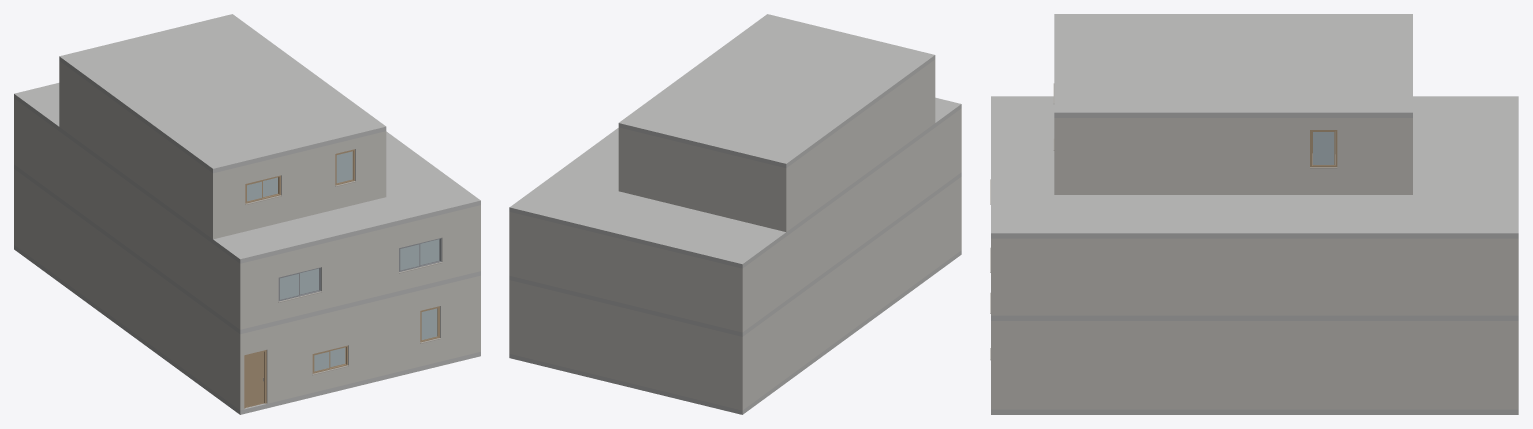
The model's file is site.glb.
3 renders of one model, left to right at view 1: azimuth 30°, elevation 25°; view 2: azimuth 150°, elevation 25°; view 3: azimuth 270°, elevation 25°, orthographic. The views are drawn at different scales.
Visible parts, largest first — view 1: level3/slab, level2/slab, floor2/wall2, floor1/wall5, floor2/wall0, floor1/wall0, floor2/wall1/1, floor3/wall0, floor1/wall2/2, floor1/wall3/1, floor3/wall2/2, floor3/wall5 (+17 smaller); view 2: level3/slab, level2/slab, floor2/wall1/1, floor2/wall2, floor1/wall5, floor2/wall0, floor1/wall0, floor1/wall2/2, floor3/wall0, floor1/wall3/1, floor3/wall2/2, floor3/wall5 (+6 smaller); view 3: level2/slab, level3/slab, floor2/wall1/1, floor2/wall2, floor1/wall5, floor1/wall0, floor2/wall0, floor1/wall2/2, floor1/wall3/1, floor3/wall0, floor3/wall2/1, floor3/wall5 (+9 smaller).
Part boxes in pixels (box(x1,y1,x2,y2)): level3/slab: box(59, 14, 386, 173); level2/slab: box(14, 83, 480, 263); floor2/wall2: box(14, 98, 480, 286); floor1/wall5: box(14, 169, 480, 354); floor2/wall0: box(14, 147, 480, 329); floor1/wall0: box(14, 227, 480, 410); floor2/wall1/1: box(14, 121, 480, 311); floor3/wall0: box(59, 104, 386, 239); floor1/wall2/2: box(14, 206, 480, 387); floor1/wall3/1: box(14, 191, 480, 371); floor3/wall2/2: box(59, 79, 245, 212); floor3/wall5: box(59, 61, 386, 183); level3/slab: box(618, 14, 935, 168); level2/slab: box(509, 97, 961, 268); floor2/wall1/1: box(509, 131, 961, 315); floor2/wall2: box(509, 108, 961, 290); floor1/wall5: box(509, 177, 961, 356); floor2/wall0: box(509, 155, 961, 332); floor1/wall0: box(509, 233, 961, 410); floor1/wall2/2: box(509, 213, 961, 388); floor3/wall0: box(618, 101, 935, 231); floor1/wall3/1: box(509, 198, 961, 372); floor3/wall2/2: box(618, 77, 935, 206); floor3/wall5: box(618, 59, 935, 178); level2/slab: box(991, 96, 1518, 238); level3/slab: box(1054, 14, 1412, 117); floor2/wall1/1: box(991, 265, 1518, 294); floor2/wall2: box(991, 238, 1518, 265); floor1/wall5: box(991, 321, 1518, 344); floor1/wall0: box(991, 389, 1518, 409); floor2/wall0: box(991, 295, 1518, 315); floor1/wall2/2: box(991, 364, 1518, 383); floor1/wall3/1: box(991, 346, 1518, 364); floor3/wall0: box(1054, 168, 1412, 194); floor3/wall2/1: box(1054, 139, 1309, 163); floor3/wall5: box(1054, 118, 1412, 129).
Bounding box in the file's own units: 10 × 8.98 × 16.29.
